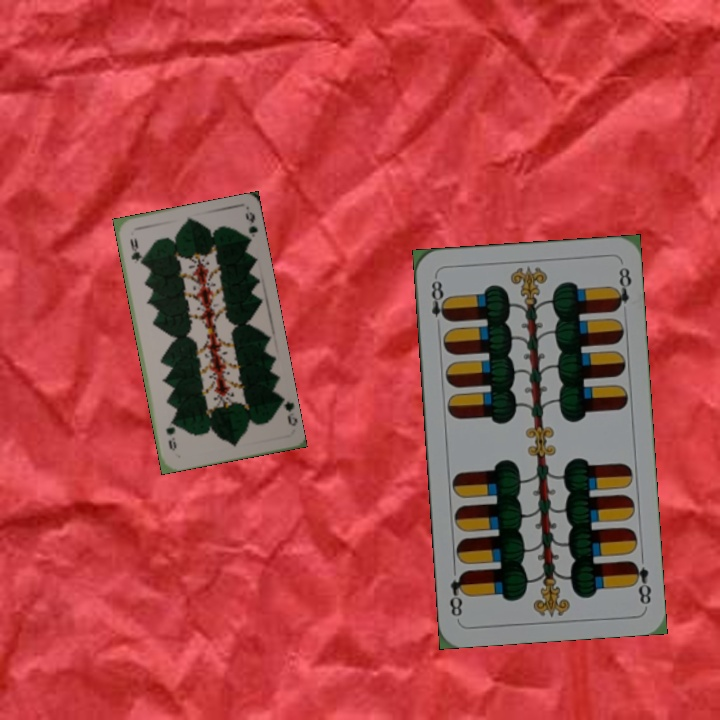E8: (627, 557, 654, 607), (427, 273, 451, 324)
G9: (275, 393, 298, 429), (126, 234, 144, 267)
